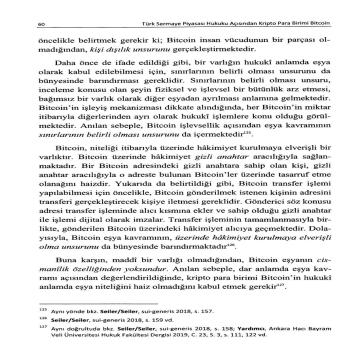footer: (50, 308, 336, 340)
header: (141, 20, 331, 27)
